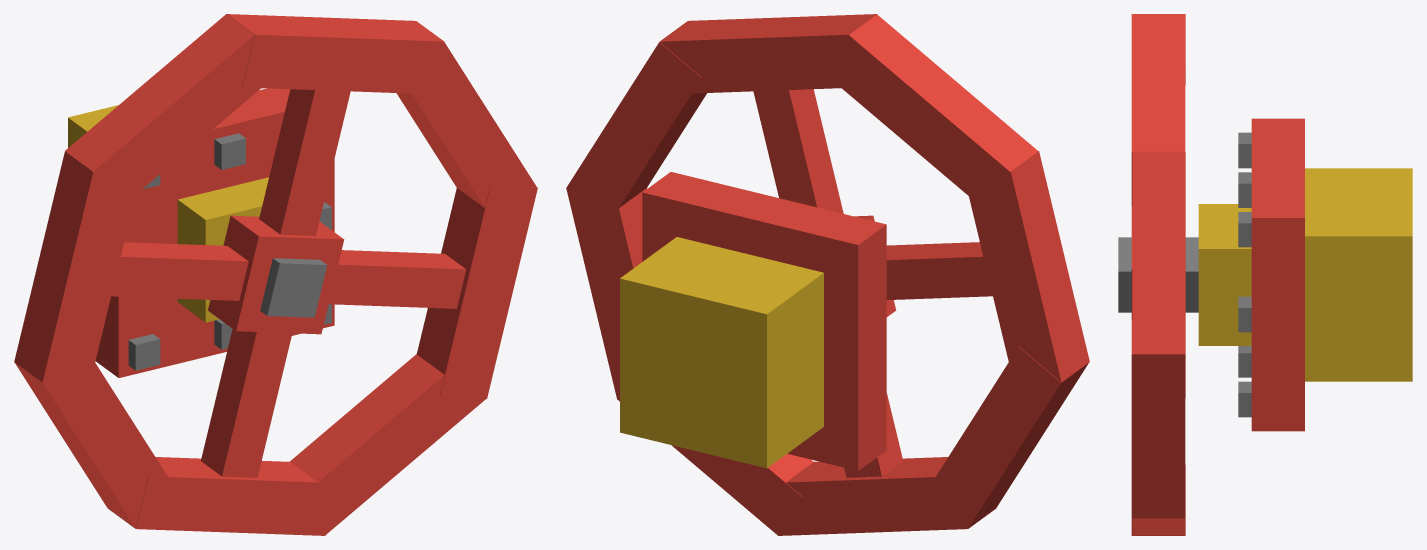
The model's file is steamvalve.obj.
The picture shows the model from 3 angles, left to right: view 1: azimuth 30°, elevation 25°; view 2: azimuth 150°, elevation 25°; view 3: azimuth 270°, elevation 25°; orthographic projection. The views are drawn at different scales.
Bounding box in the file's own units: 0.631 × 0.631 × 0.3438.
